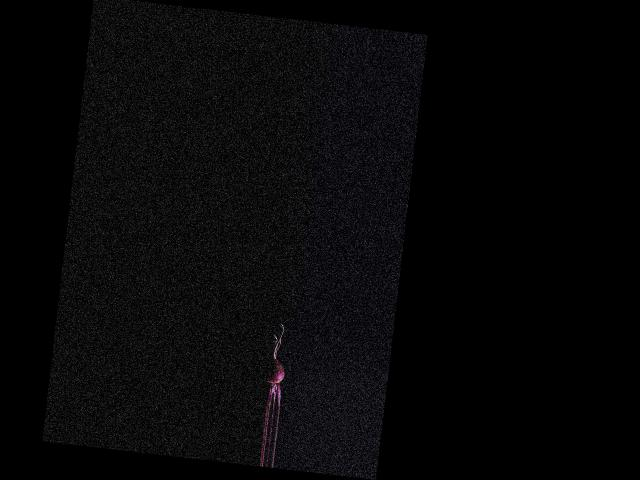beet: (258, 322, 291, 409)
